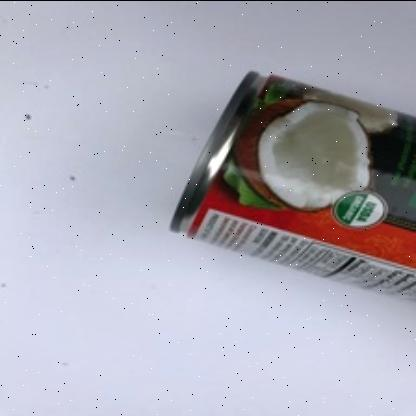Can: (168, 67, 416, 298)
